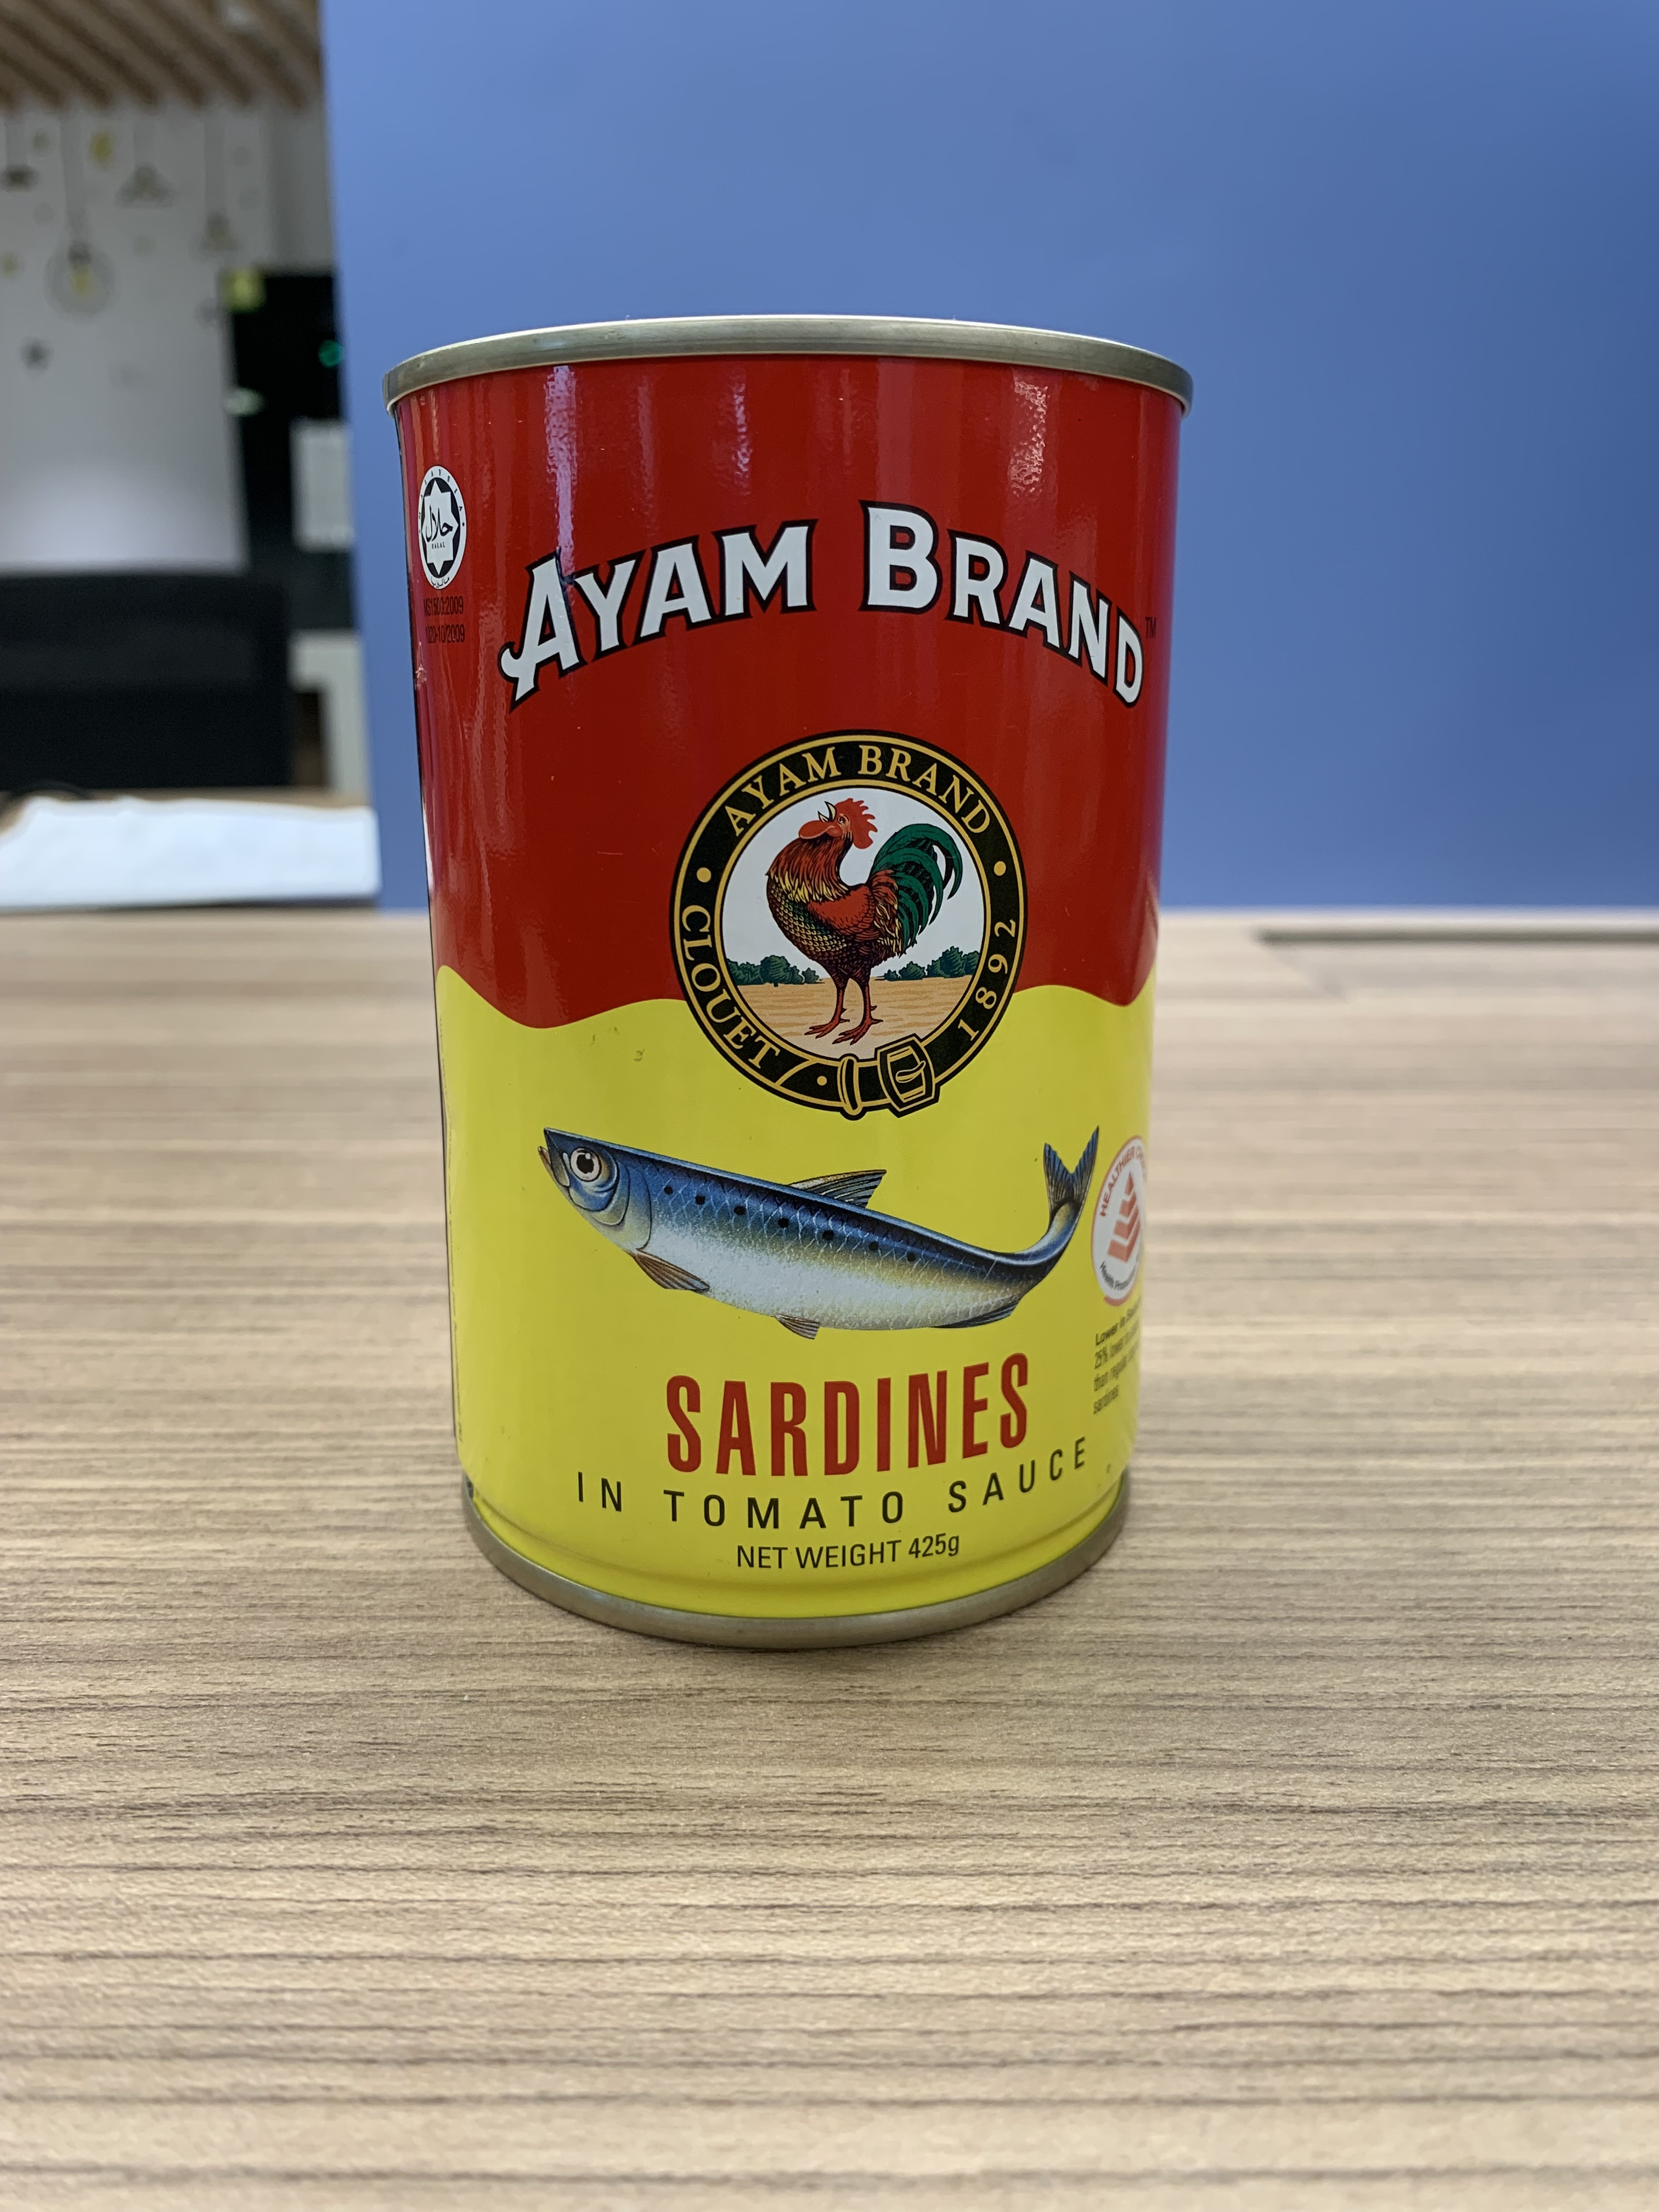sardines_400g-499g: (430, 387, 1129, 1580)
